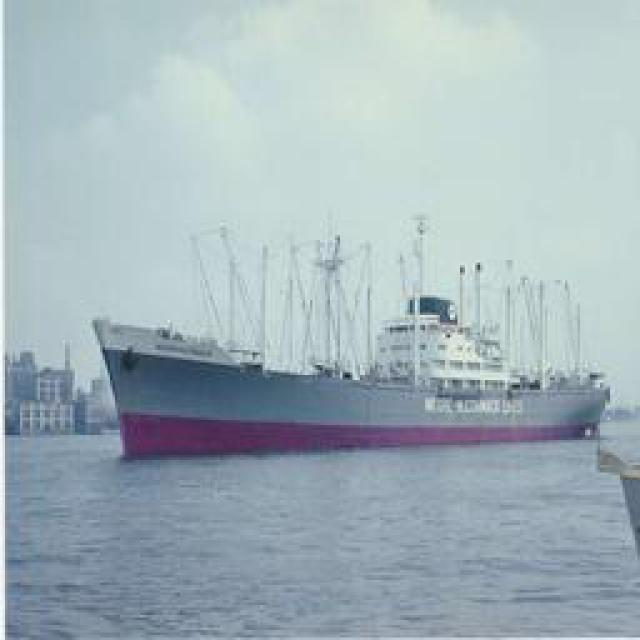Ship: (81, 308, 624, 453)
